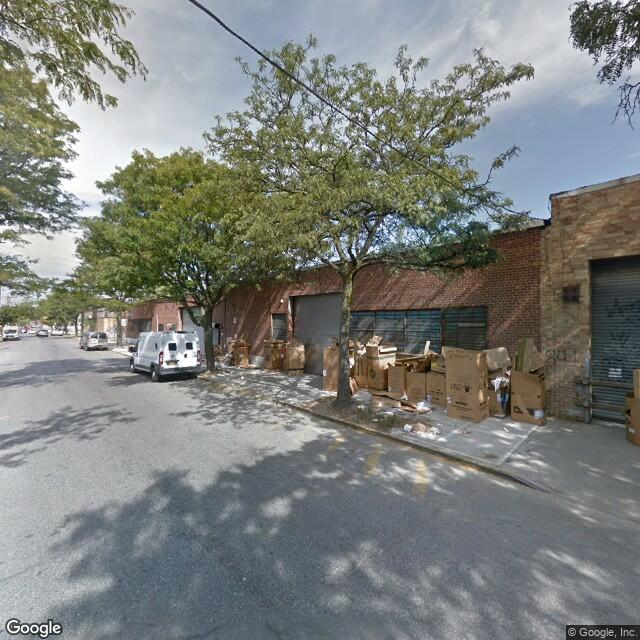litter: (429, 424, 442, 435), (401, 423, 413, 433), (502, 427, 512, 435), (239, 374, 248, 382)
